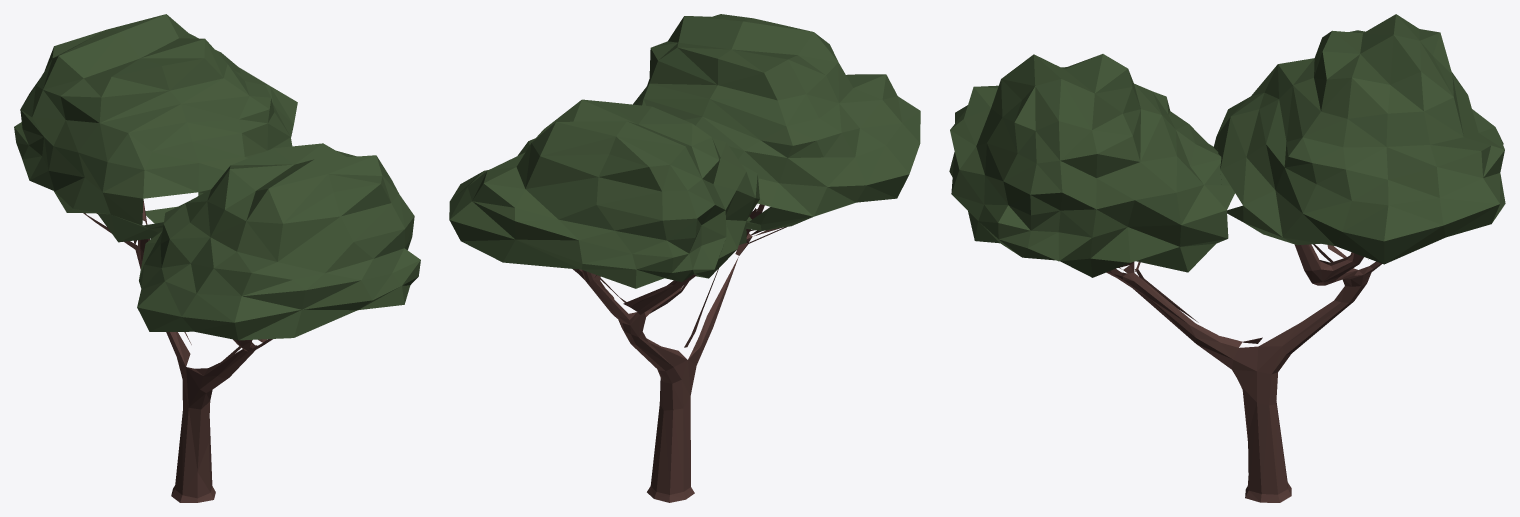
Rendered from CommonTree_1.glb.
3 renders of one model, left to right at view 1: azimuth 30°, elevation 25°; view 2: azimuth 150°, elevation 25°; view 3: azimuth 270°, elevation 25°, orthographic. The views are drawn at different scales.
Parts seen in each view (by area): view 1: CommonTree_1_Cube.049; view 2: CommonTree_1_Cube.049; view 3: CommonTree_1_Cube.049.
Part boxes in pixels (x1,y1,x2,y2): CommonTree_1_Cube.049: [14, 14, 420, 502]; CommonTree_1_Cube.049: [449, 14, 920, 502]; CommonTree_1_Cube.049: [949, 14, 1505, 502].
Bounding box in the file's own units: 1.89 × 2.48 × 2.77.
